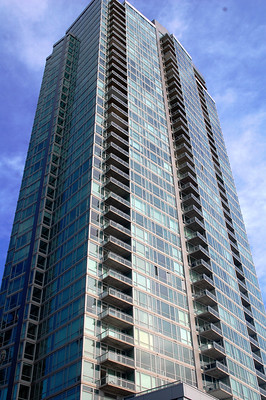high: (1, 0, 266, 400)
